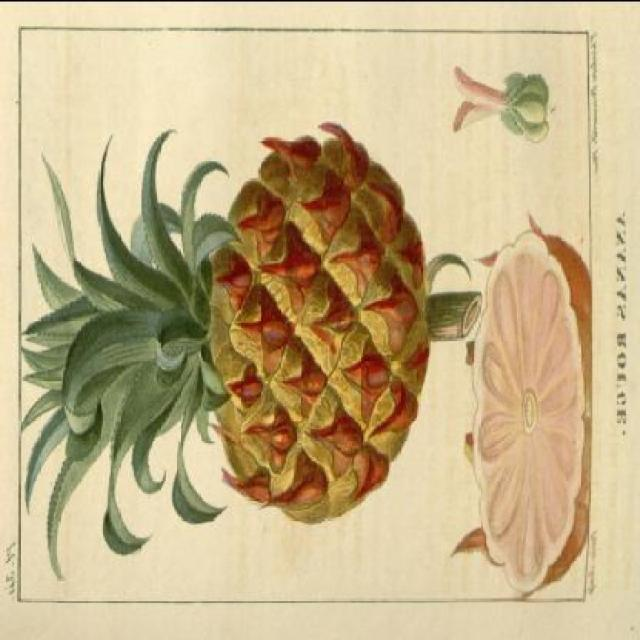Pineapple: (13, 126, 470, 579)
